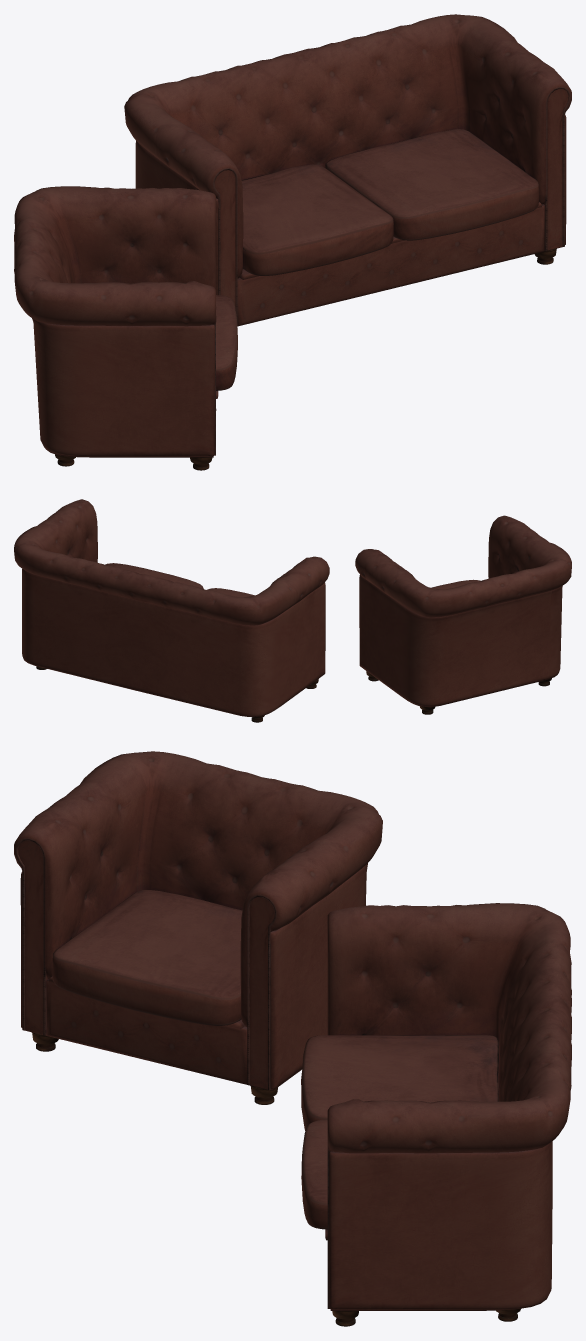
File: antique-leather-sofa.glb
3 renders of one model, top to bottom at view 1: azimuth 30°, elevation 25°; view 2: azimuth 150°, elevation 25°; view 3: azimuth 270°, elevation 25°, orthographic. The views are drawn at different scales.
Parts seen in each view (by area): view 1: body_lp002, body_lp001; view 2: body_lp002, body_lp001; view 3: body_lp002, body_lp001.
Boxes of the visible parts, x1,y1,x2,y2 form: body_lp002: [124, 14, 571, 326]; body_lp001: [14, 186, 237, 470]; body_lp002: [14, 499, 329, 722]; body_lp001: [355, 515, 571, 714]; body_lp002: [301, 903, 571, 1326]; body_lp001: [14, 751, 382, 1104].
Bounding box in the file's own units: 3.36 × 0.9437 × 2.15.
Materials: 1 (1 with a texture image).
